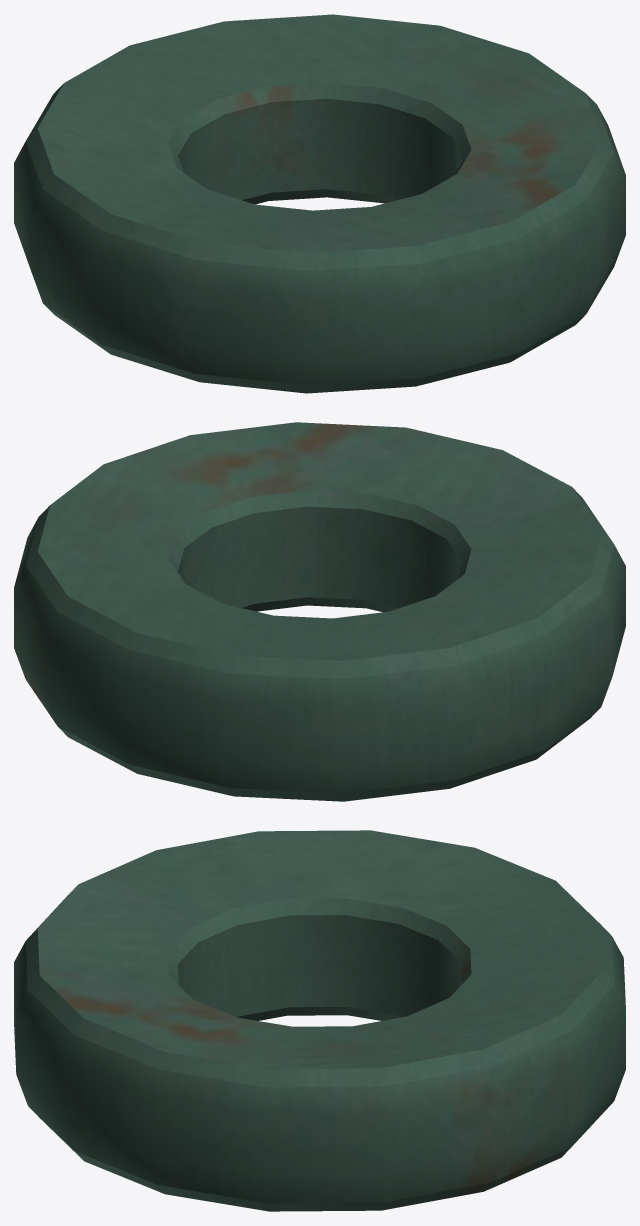
The model's file is Props_Pneu.fbx.
3 views of the same model, one above another, from view 1: azimuth 30°, elevation 25°; view 2: azimuth 150°, elevation 25°; view 3: azimuth 270°, elevation 25° (orthographic).
Parts seen in each view (by area): view 1: Props_roue; view 2: Props_roue; view 3: Props_roue.
Boxes of the visible parts, left/top/right/bottom form: Props_roue: left=14, top=14, right=625, bottom=393; Props_roue: left=14, top=422, right=625, bottom=801; Props_roue: left=14, top=830, right=625, bottom=1211.
Bounding box in the file's own units: 170 × 43.71 × 170.
